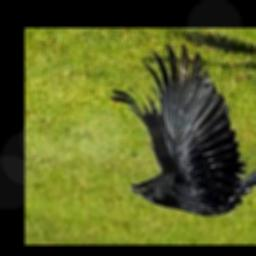Crow: (109, 43, 256, 217)
